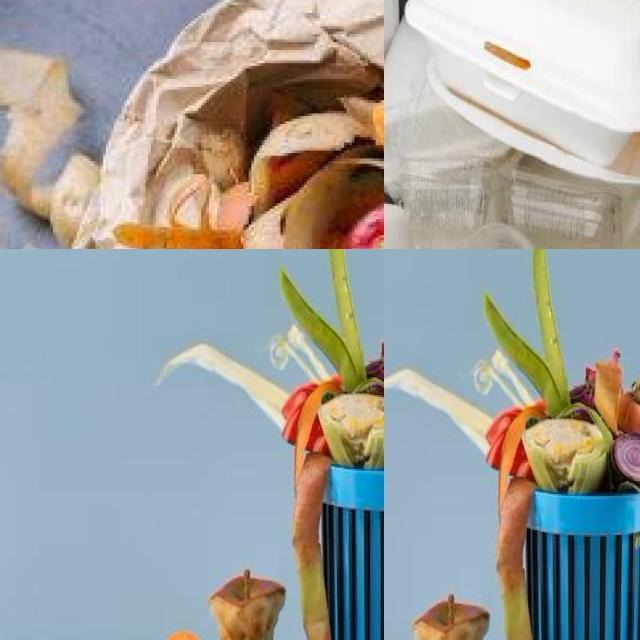Disposable: (384, 0, 640, 191)
Garbage: (384, 249, 640, 640), (157, 249, 384, 640), (384, 0, 640, 249), (195, 95, 384, 249)
contaminated_waste: (397, 157, 640, 249)
